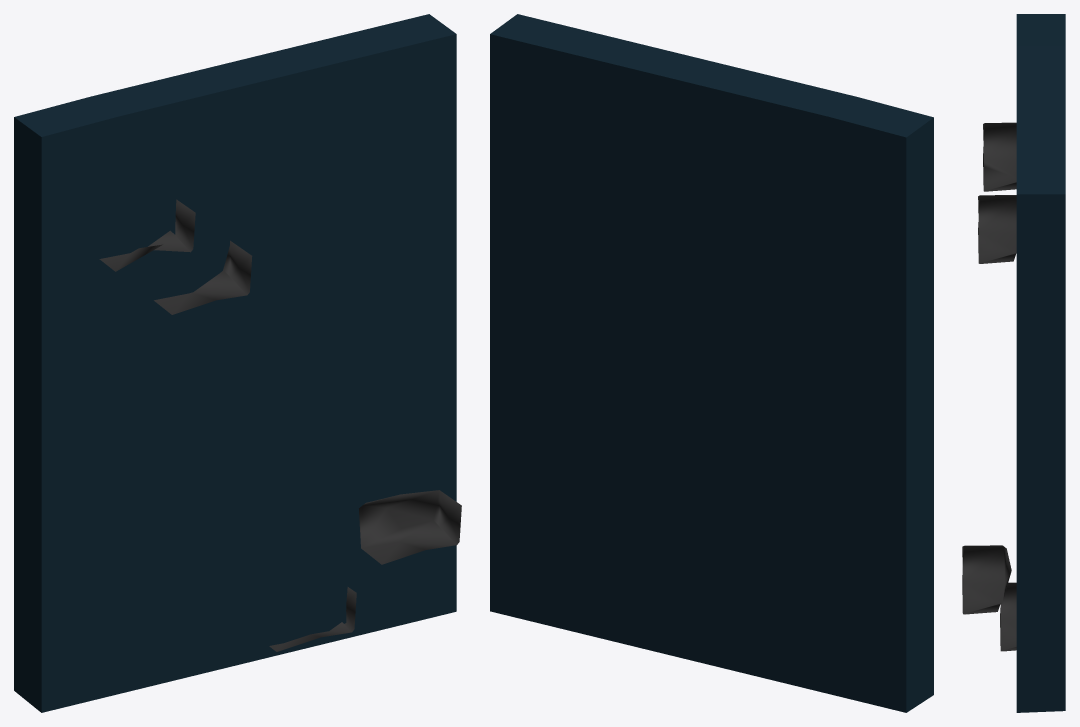
Rendered from wall No.3.fbx.
3 views of the same model, side by side, from view 1: azimuth 30°, elevation 25°; view 2: azimuth 150°, elevation 25°; view 3: azimuth 270°, elevation 25° (orthographic). The views are drawn at different scales.
Visible parts, largest first — view 1: 立方体.031; view 2: 立方体.031; view 3: 立方体.031.
Boxes of the visible parts, x1=… form: 立方体.031: x1=14, y1=14, x2=461, y2=712; 立方体.031: x1=490, y1=14, x2=933, y2=712; 立方体.031: x1=962, y1=14, x2=1065, y2=712.
Size of the model in its own units: 431 by 572 by 104.
